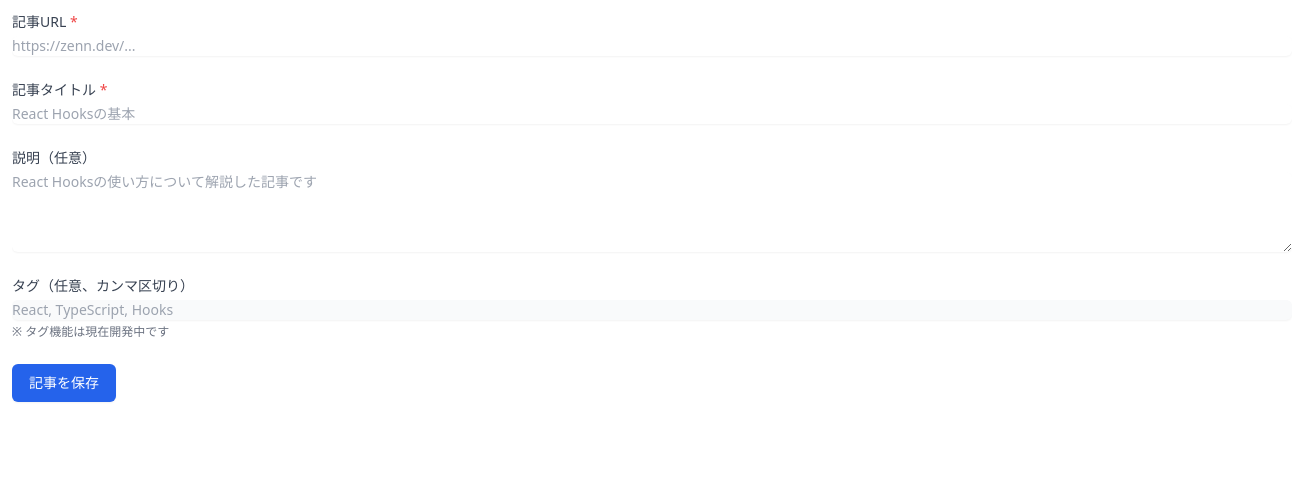
Scenario: ArticleForm › バリデーション › タイトルが空の場合、エラーメッセージが表示される
 URLのみ入力
Type "https://zenn.dev/user/articles/123" into the field labelled "記事URL *" at (652, 46), box [12,36,1292,56]
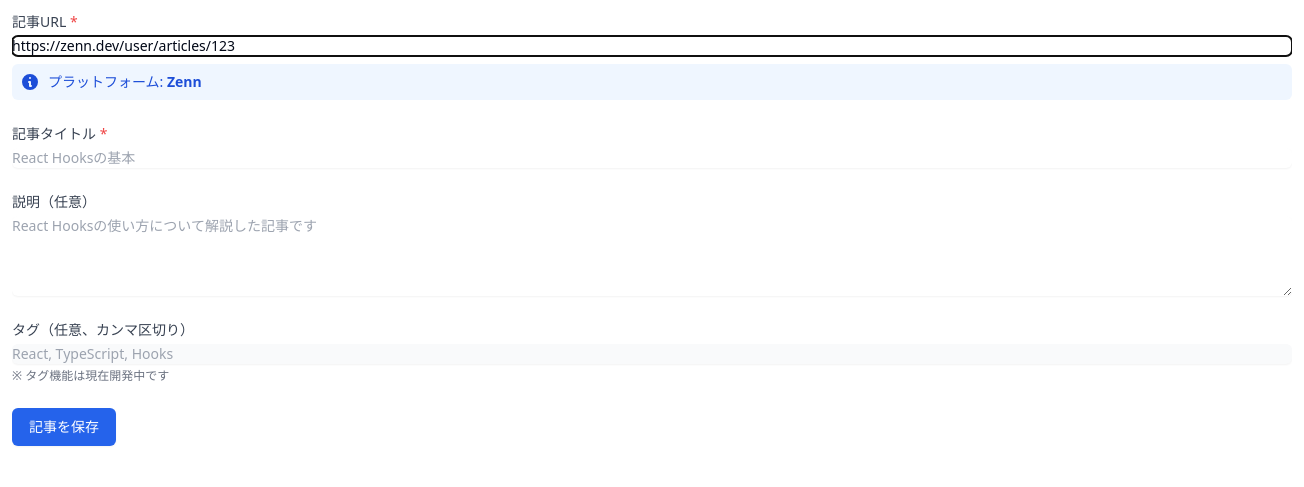
Click the button "記事を保存" at (64, 427), box [12,408,116,446]
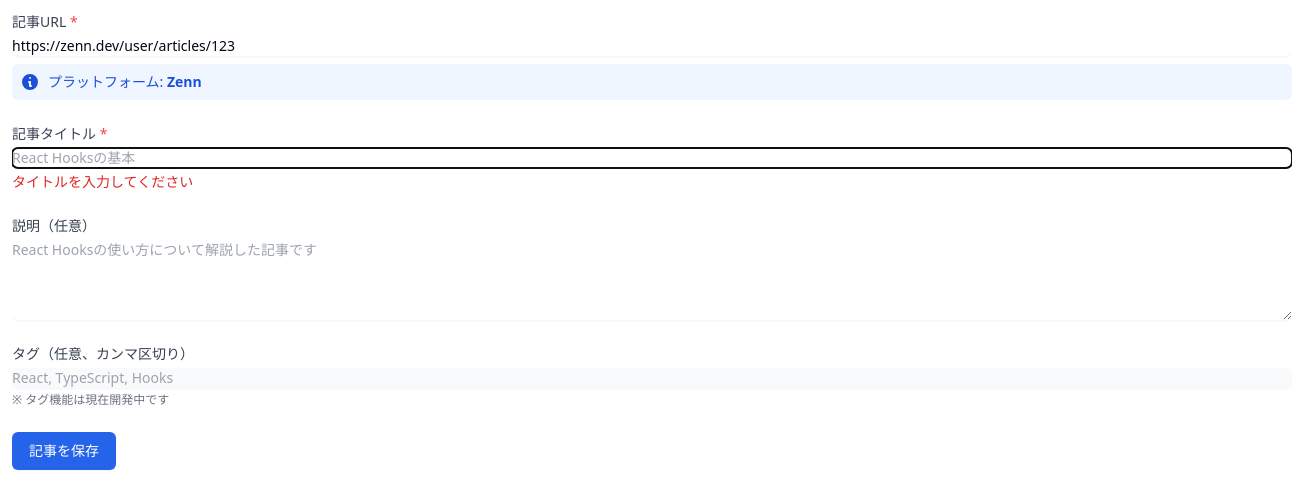
expect the text "タイトルを入力してください" is shown: met, box [12,172,193,191]
